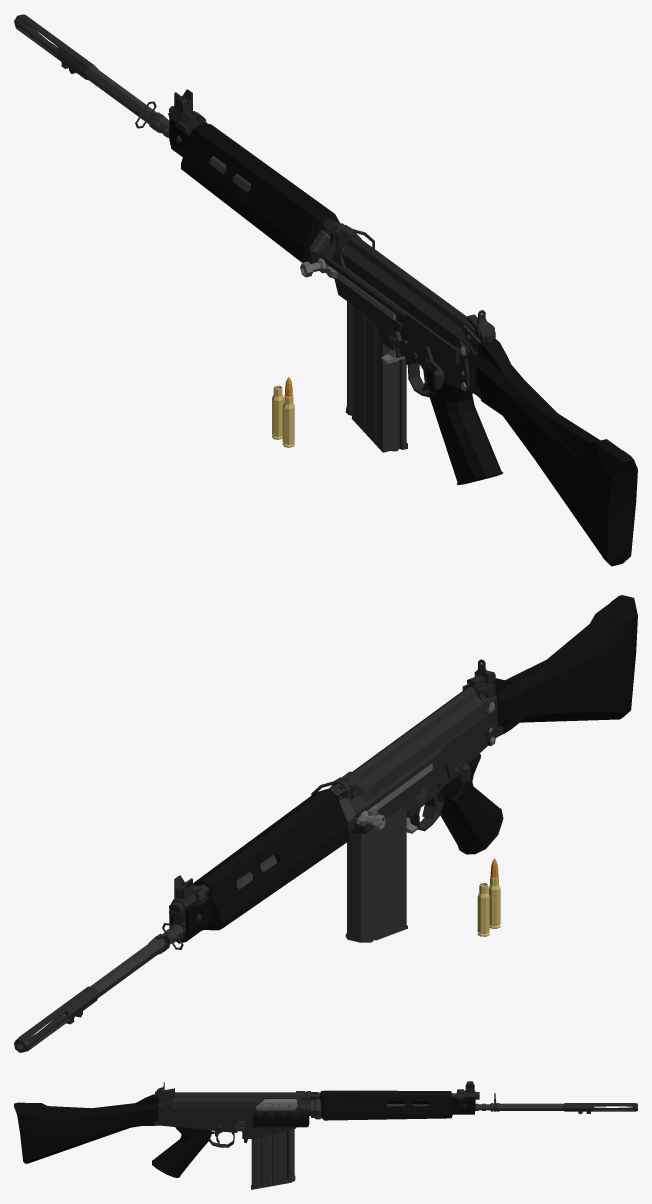
3 renders of one model, top to bottom at view 1: azimuth 30°, elevation 25°; view 2: azimuth 150°, elevation 25°; view 3: azimuth 270°, elevation 25°, orthographic. The views are drawn at different scales.
Parts seen in each view (by area): view 1: buttstock_28, handguards_33, magazine_10, dust_cover_23, pistol_grip_9, upper_0, lower_12, barrel_32, flash_hider_21, charging_handle_26, 308 lol_36; view 2: buttstock_28, handguards_33, magazine_10, dust_cover_23, upper_0, pistol_grip_9, barrel_32, flash_hider_21, lower_12, charging_handle_26, gas_block_20, 308 lol_36 (+1 smaller); view 3: buttstock_28, handguards_33, magazine_10, upper_0, dust_cover_23, pistol_grip_9, lower_12, carryhandle_27, barrel_32, flash_hider_21, bolt:_carrier_34, gas_block_20 (+1 smaller).
Boxes of the visible parts, box(x1,y1,x2,y2) form: buttstock_28: box(475, 339, 637, 566); handguards_33: box(169, 117, 340, 263); magazine_10: box(345, 301, 407, 452); dust_cover_23: box(342, 235, 467, 346); pistol_grip_9: box(426, 368, 503, 484); upper_0: box(319, 223, 456, 367); lower_12: box(399, 324, 481, 398); barrel_32: box(86, 67, 250, 192); flash_hider_21: box(14, 14, 98, 80); charging_handle_26: box(300, 258, 395, 319); 308 lol_36: box(282, 377, 294, 447); buttstock_28: box(492, 595, 637, 733); handguards_33: box(169, 788, 349, 943); magazine_10: box(345, 808, 407, 942); dust_cover_23: box(352, 686, 485, 793); upper_0: box(330, 713, 488, 833); pistol_grip_9: box(440, 753, 503, 854); barrel_32: box(63, 854, 277, 1015); flash_hider_21: box(14, 986, 98, 1052); lower_12: box(420, 683, 502, 807); charging_handle_26: box(356, 763, 432, 829); gas_block_20: box(171, 875, 196, 936); 308 lol_36: box(488, 858, 500, 928); buttstock_28: box(14, 1094, 158, 1163); handguards_33: box(320, 1090, 474, 1120); magazine_10: box(251, 1129, 295, 1189); upper_0: box(175, 1091, 310, 1138); dust_cover_23: box(175, 1092, 296, 1107); pistol_grip_9: box(152, 1127, 211, 1177); lower_12: box(153, 1094, 237, 1132); carryhandle_27: box(253, 1091, 309, 1127); barrel_32: box(386, 1103, 563, 1111); flash_hider_21: box(564, 1103, 637, 1114); bolt:_carrier_34: box(255, 1099, 297, 1109); gas_block_20: box(456, 1081, 475, 1111).
Size of the model in its own units: 0.1495 by 0.2072 by 1.13.
